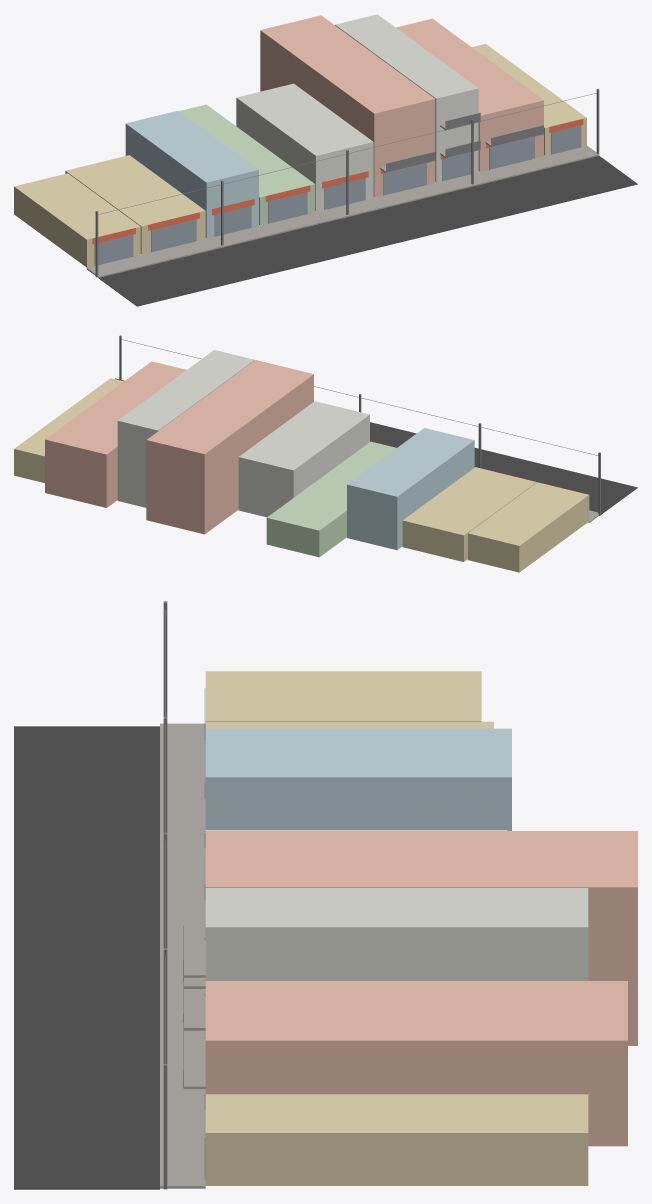
File: Block_Market_01.fbx
3 views of the same model, one above another, from view 1: azimuth 30°, elevation 25°; view 2: azimuth 150°, elevation 25°; view 3: azimuth 270°, elevation 25° (orthographic). The views are drawn at different scales.
Parts seen in each view (by area): view 1: Road, Building_05_LOD0, Building_04_LOD0, Building_02_LOD0, Sidewalk, Building_06_LOD0, Building_07_LOD0, Building_00_LOD0, Building_01_LOD0, Building_03_LOD0, Building_08_LOD0, Building_01_Shutter (+10 smaller); view 2: Building_05_LOD0, Building_04_LOD0, Building_02_LOD0, Building_07_LOD0, Building_00_LOD0, Building_06_LOD0, Building_01_LOD0, Building_03_LOD0, Road, Building_08_LOD0; view 3: Road, Building_07_LOD0, Building_06_LOD0, Building_08_LOD0, Building_02_LOD0, Building_05_LOD0, Sidewalk, Building_00_LOD0, Building_01_LOD0, Building_07_Balcony_1.
Boxes of the visible parts, bbox=[...] form: Road: bbox=[98, 156, 637, 306]; Building_05_LOD0: bbox=[260, 15, 435, 197]; Building_04_LOD0: bbox=[236, 83, 373, 211]; Building_02_LOD0: bbox=[125, 110, 258, 238]; Sidewalk: bbox=[86, 145, 599, 277]; Building_06_LOD0: bbox=[335, 14, 478, 182]; Building_07_LOD0: bbox=[396, 18, 543, 171]; Building_00_LOD0: bbox=[14, 173, 140, 267]; Building_01_LOD0: bbox=[65, 155, 205, 254]; Building_03_LOD0: bbox=[179, 104, 315, 225]; Building_08_LOD0: bbox=[472, 44, 586, 155]; Building_01_Shutter: bbox=[151, 219, 196, 252]; Building_05_LOD0: bbox=[146, 360, 313, 534]; Building_04_LOD0: bbox=[238, 401, 369, 517]; Building_02_LOD0: bbox=[347, 428, 474, 550]; Building_07_LOD0: bbox=[45, 361, 186, 507]; Building_00_LOD0: bbox=[468, 482, 589, 572]; Building_06_LOD0: bbox=[117, 350, 254, 507]; Building_01_LOD0: bbox=[402, 467, 536, 561]; Building_03_LOD0: bbox=[266, 441, 396, 557]; Road: bbox=[370, 422, 637, 514]; Building_08_LOD0: bbox=[14, 378, 123, 482]; Road: bbox=[14, 726, 159, 1189]; Building_07_LOD0: bbox=[205, 981, 627, 1146]; Building_06_LOD0: bbox=[205, 888, 588, 980]; Building_08_LOD0: bbox=[205, 1094, 588, 1185]; Building_02_LOD0: bbox=[205, 728, 511, 830]; Building_05_LOD0: bbox=[205, 831, 637, 1045]; Sidewalk: bbox=[160, 723, 205, 1188]; Building_00_LOD0: bbox=[205, 671, 481, 721]; Building_01_LOD0: bbox=[205, 721, 493, 728]; Building_07_Balcony_1: bbox=[183, 1038, 205, 1088].
Size of what is drawn, in the model's own units: 60.2 by 9.8 by 34.21.
